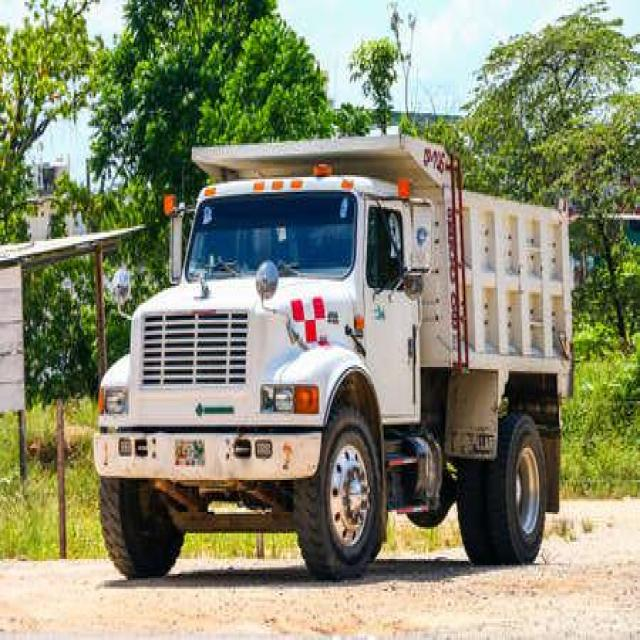Camion volquete: (91, 134, 579, 580)
